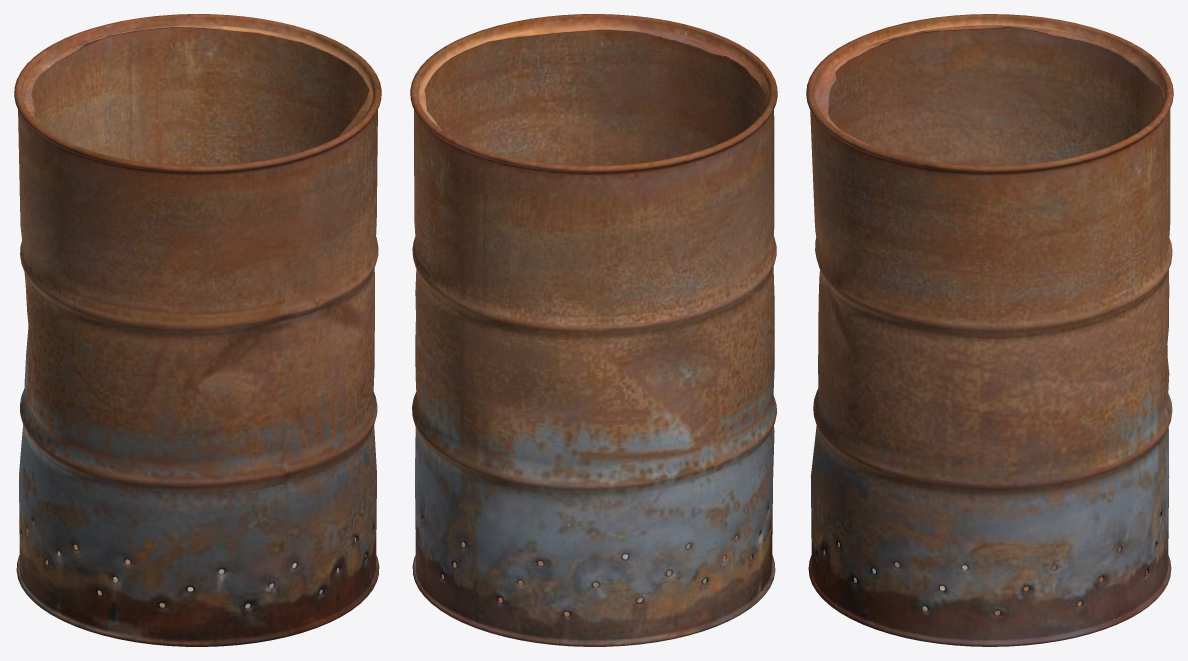
Rendered from braaiDrum.glb.
The picture shows the model from 3 angles, left to right: view 1: azimuth 30°, elevation 25°; view 2: azimuth 150°, elevation 25°; view 3: azimuth 270°, elevation 25°; orthographic projection.
Visible parts, largest first — view 1: barrel_stove; view 2: barrel_stove; view 3: barrel_stove.
Part boxes in pixels (left/top/right/bottom): barrel_stove: left=14, top=14, right=381, bottom=646; barrel_stove: left=410, top=14, right=777, bottom=646; barrel_stove: left=806, top=14, right=1173, bottom=646.
Bounding box in the file's own units: 0.5926 × 0.8556 × 0.5926.
1 material, 1 textured.
